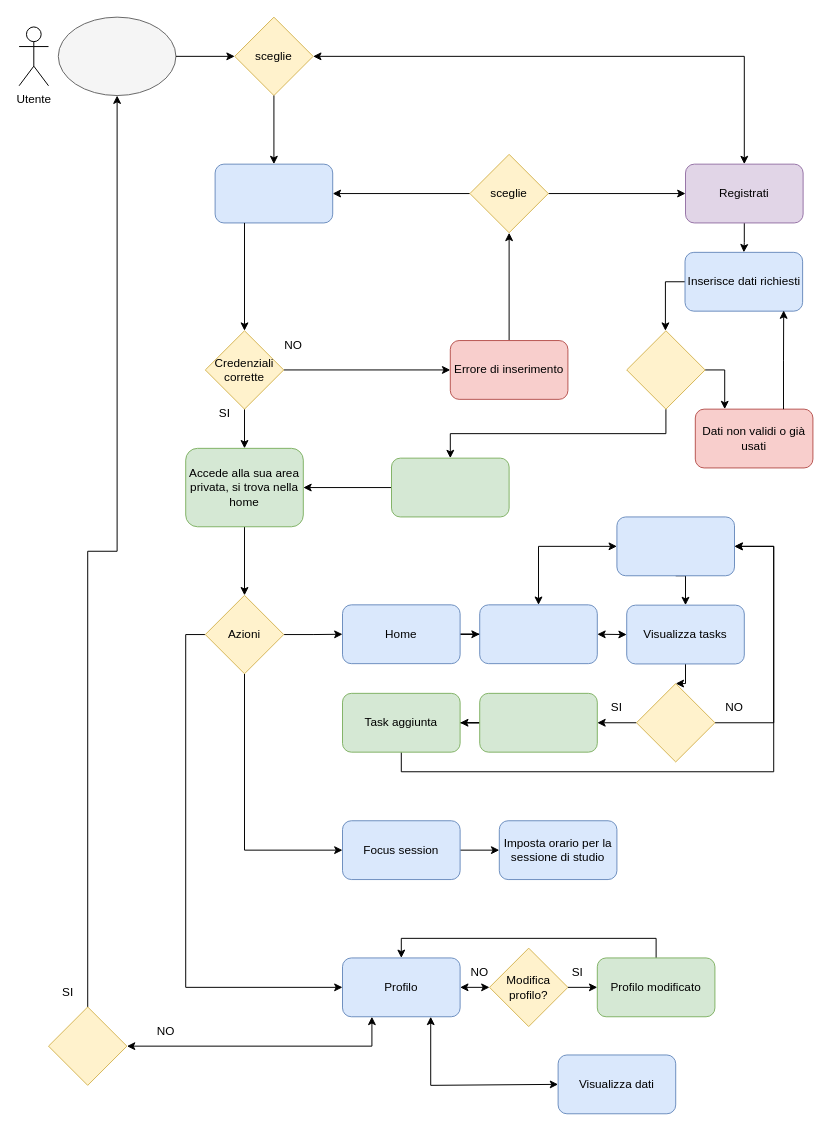
Some shapes in this 830 by 1131 pixel diagram are drawn without their labels. Here are the shapes that lost their labels. From the top down, the box of each, then its label:
(57, 16, 176, 96): L'utente entra nel login
(214, 163, 333, 223): Inserisce le credenziali
(626, 330, 705, 409): Verifica correttezza
(391, 457, 509, 517): Dati validi e non usati
(616, 516, 735, 576): Giorno selezionato
(479, 604, 597, 664): Seleziona giorno
(479, 692, 597, 752): Compila
(636, 683, 715, 762): Aggiunge task?
(48, 1006, 127, 1085): Esci dal profilo?
